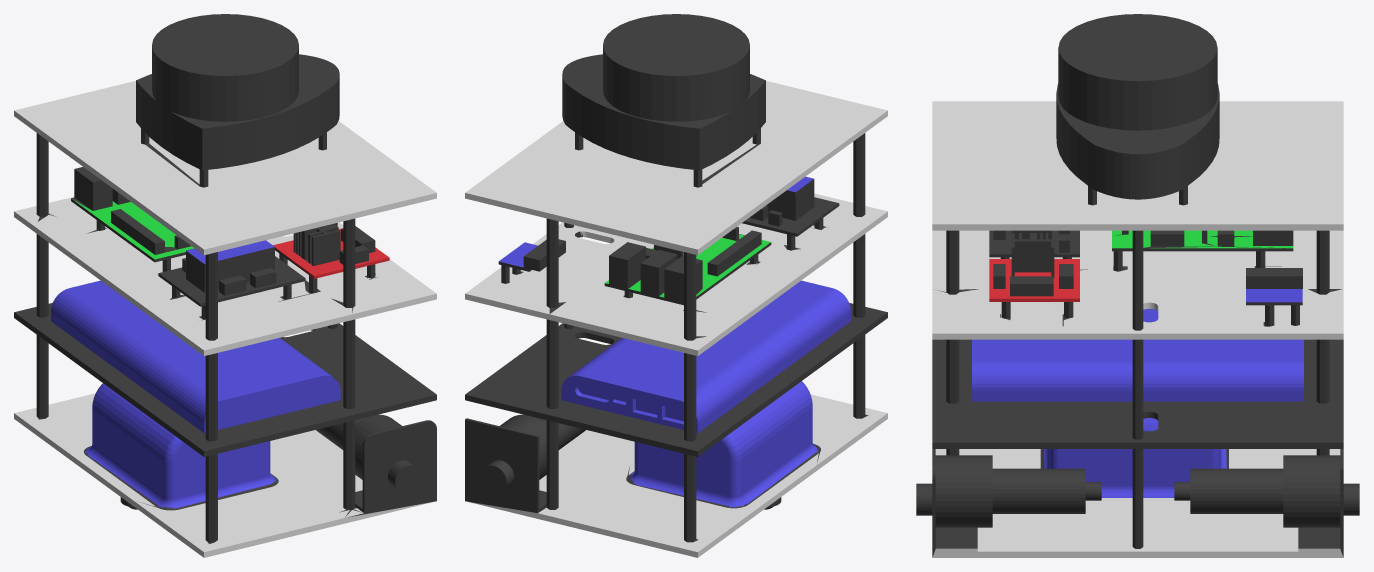
Rendered from jerry_base.dae.
3 views of the same model, side by side, from view 1: azimuth 30°, elevation 25°; view 2: azimuth 150°, elevation 25°; view 3: azimuth 270°, elevation 25° (orthographic). The views are drawn at different scales.
Parts seen in each view (by area): view 1: MobileRobot Base; view 2: MobileRobot Base; view 3: MobileRobot Base.
Boxes of the visible parts, x1,y1,x2,y2 form: MobileRobot Base: (14,14,436,557); MobileRobot Base: (465,14,887,557); MobileRobot Base: (916,14,1359,557).
Size of the model in its own units: 0.128 by 0.195 by 0.232.
